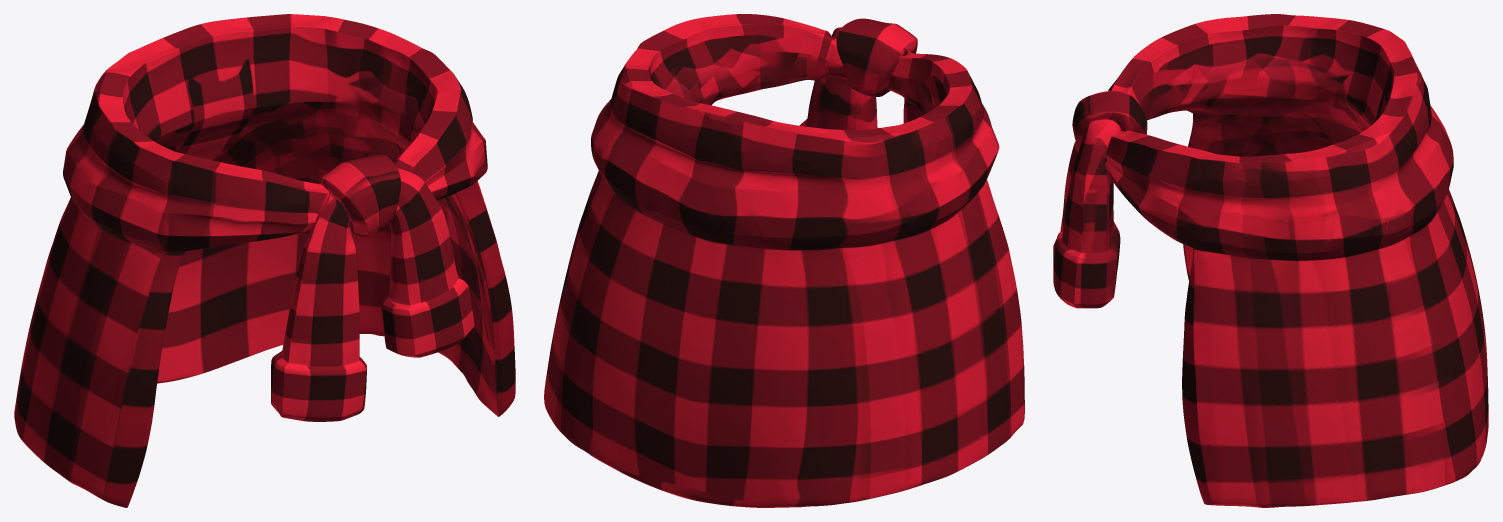
File: tied_flannel.glb
3 renders of one model, left to right at view 1: azimuth 30°, elevation 25°; view 2: azimuth 150°, elevation 25°; view 3: azimuth 270°, elevation 25°, orthographic. The views are drawn at different scales.
Size of the model in its own units: 1.9 by 1.58 by 1.73.
1 material, 1 textured.
